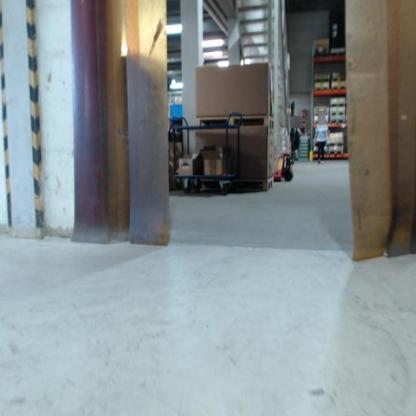pallets: (311, 96, 348, 135), (315, 137, 350, 162), (315, 72, 351, 94)
